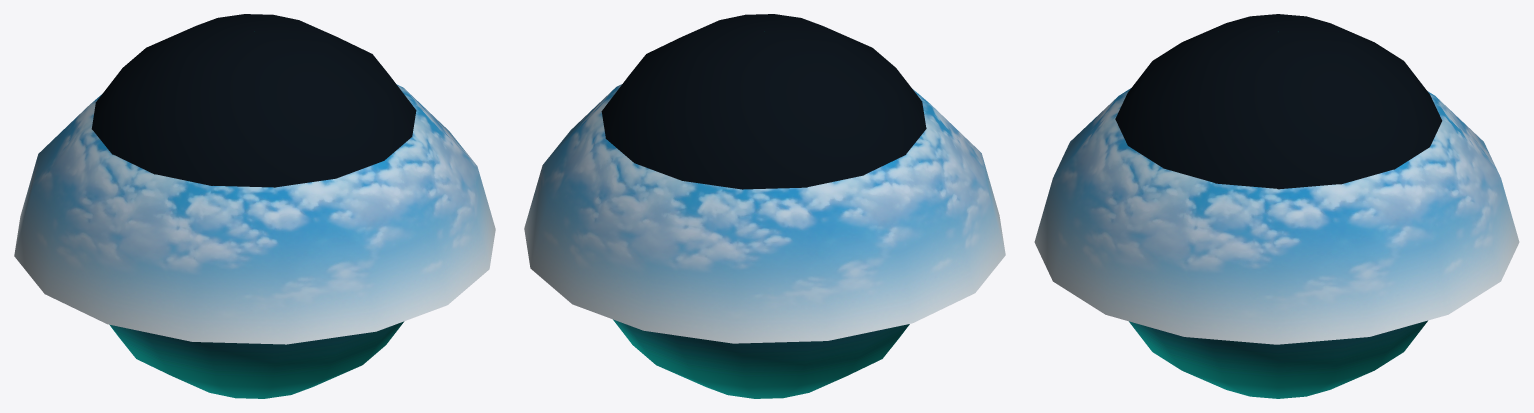
File: BattleArea_MultiPlay.fbx
3 views of the same model, side by side, from view 1: azimuth 30°, elevation 25°; view 2: azimuth 150°, elevation 25°; view 3: azimuth 270°, elevation 25° (orthographic).
Parts seen in each view (by area): view 1: sky_01_001, skillbg_01; view 2: sky_01_001, skillbg_01; view 3: sky_01_001, skillbg_01.
Boxes of the visible parts, left/top/right/bottom form: sky_01_001: left=14, top=84, right=495, bottom=344; skillbg_01: left=91, top=14, right=416, bottom=398; sky_01_001: left=524, top=84, right=1005, bottom=343; skillbg_01: left=601, top=14, right=926, bottom=398; sky_01_001: left=1034, top=88, right=1519, bottom=344; skillbg_01: left=1115, top=14, right=1442, bottom=398.
Size of the model in its own units: 236 by 187 by 236.
